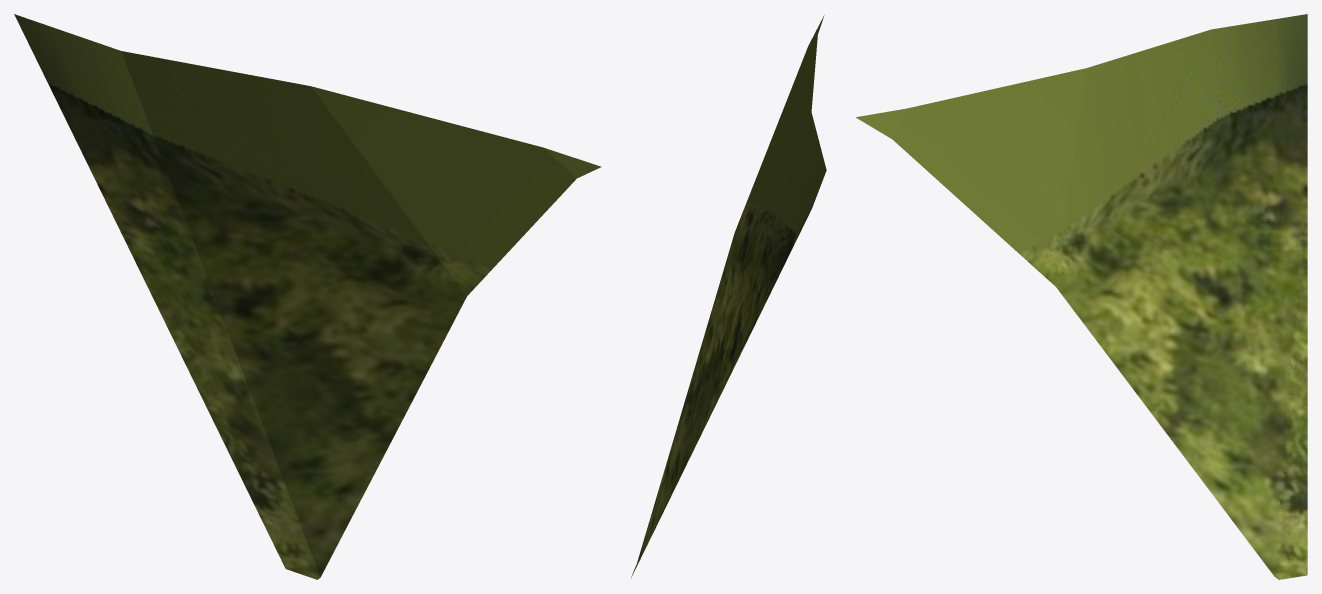
3 views of the same model, side by side, from view 1: azimuth 30°, elevation 25°; view 2: azimuth 150°, elevation 25°; view 3: azimuth 270°, elevation 25° (orthographic). The views are drawn at different scales.
Size of the model in its own units: 1.41 by 2.95 by 2.61.
2 materials, 2 textured.
